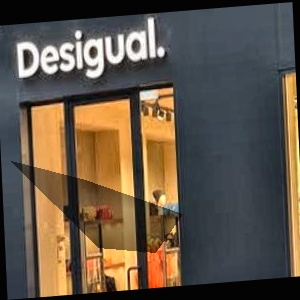desigual: (156, 14, 174, 21)
